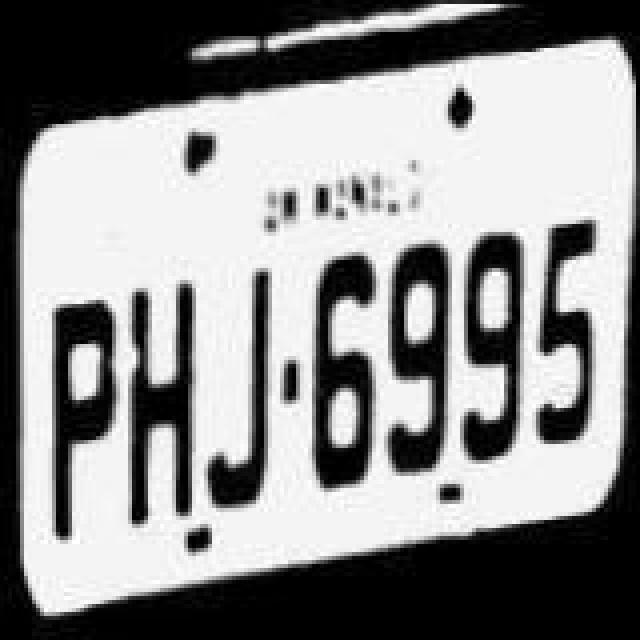5: (528, 196, 604, 460)
6: (304, 238, 380, 502)
9: (380, 228, 456, 492), (456, 222, 532, 478)
H: (124, 272, 204, 532)
J: (198, 260, 282, 516)
P: (46, 288, 122, 552)
